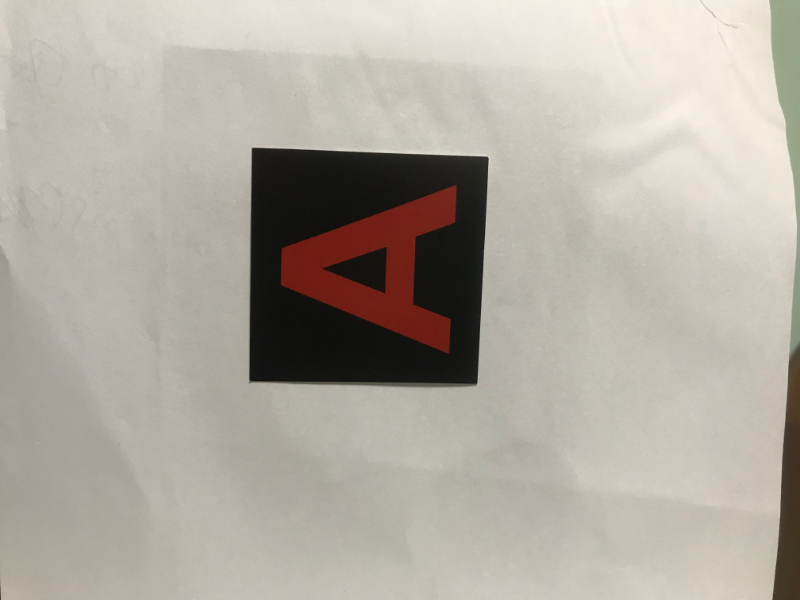A-11: (256, 159, 477, 382)
